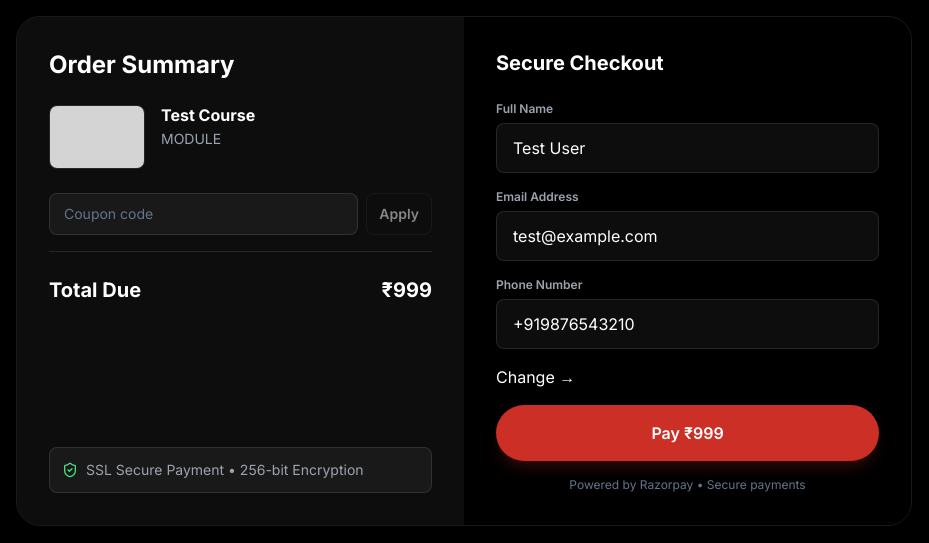
Scenario: Checkout › shows ₹0 pay button when 100% coupon applied
This screenshot has width=929, height=543.
expect the heading "Test Course" is shown: met, box [161,105,255,125]
Type "FREE100" into the field with placeholder "Coupon code" at coordinates (204, 214), box [49,193,358,235]
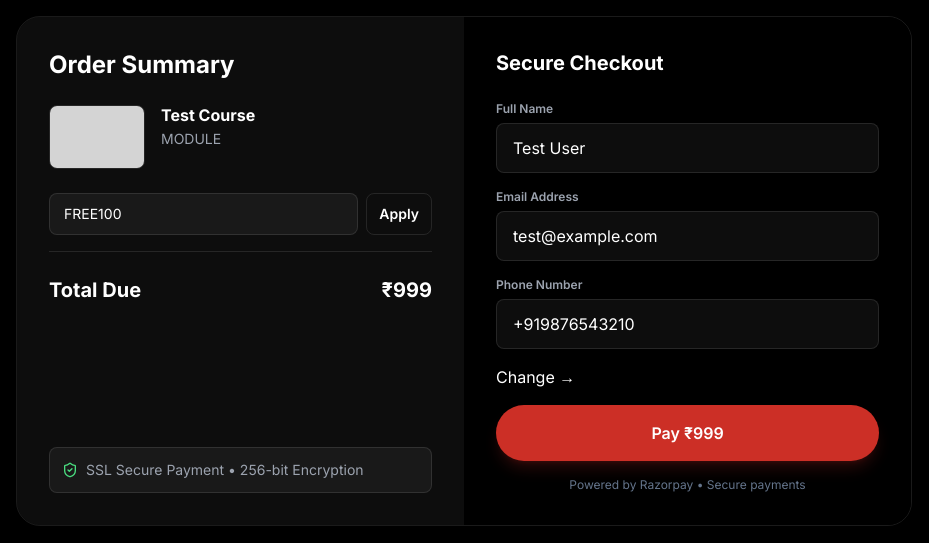
Click the button "Apply" at coordinates (399, 214), box [366,193,432,235]
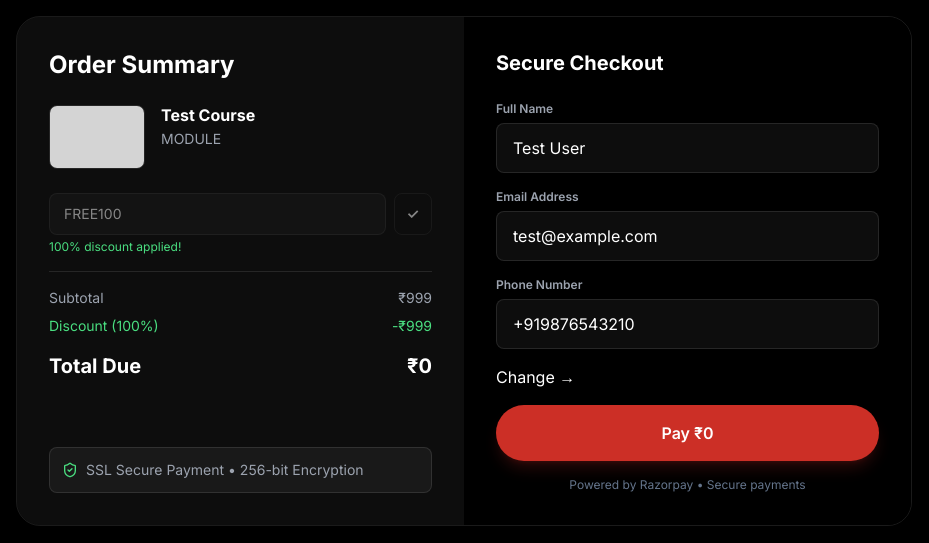
expect the text "100% discount applied!" is shown: met, box [49,239,181,254]
expect the button "Pay ₹0" is shown: met, box [496,405,879,461]
